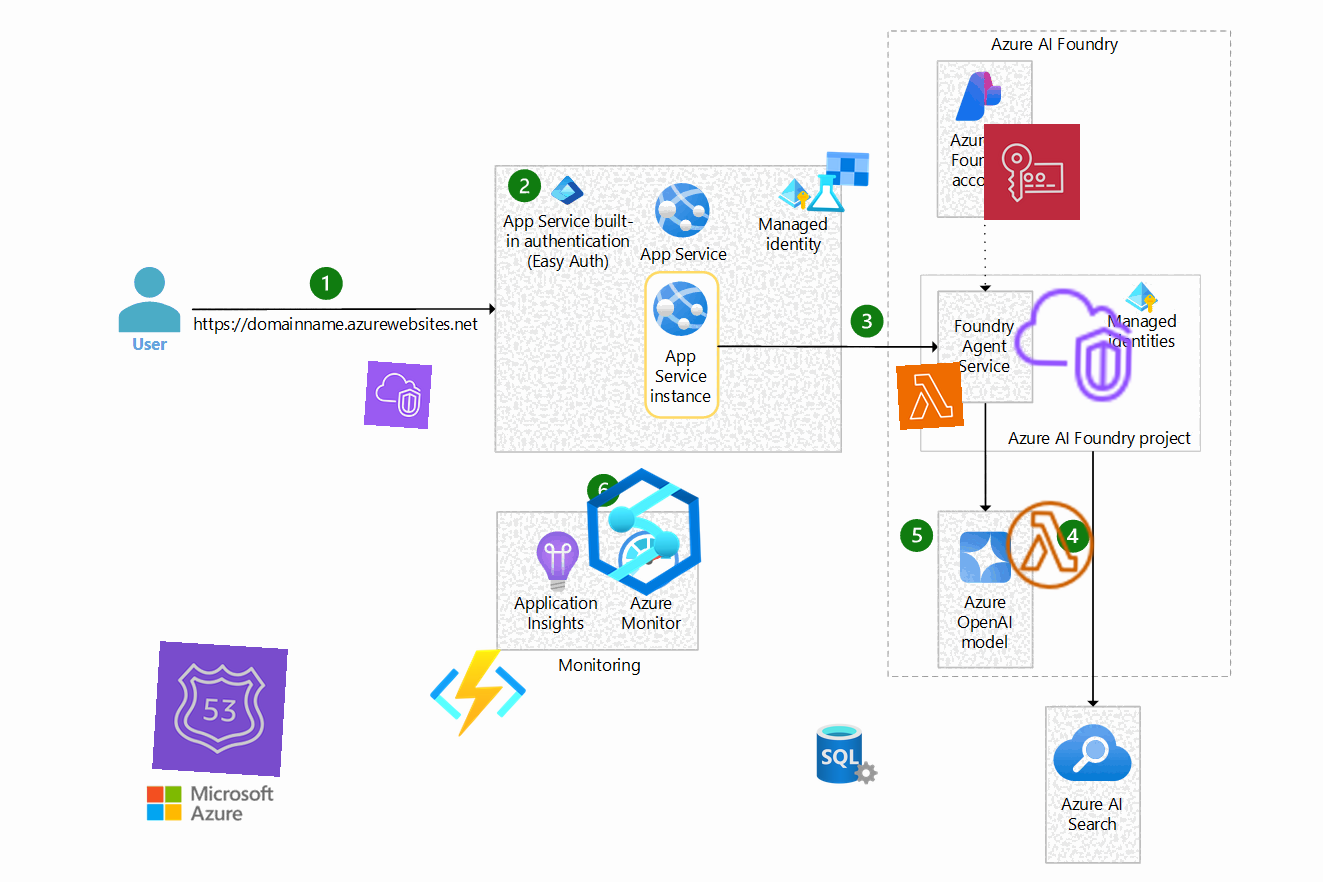aws_amazon_route_53: (152, 641, 288, 777)
aws_amazon_virtual_private_cloud: (363, 360, 433, 430)
aws_key_management_service: (983, 123, 1081, 221)
aws_lambda: (896, 362, 964, 430)
aws_lambda_lambda_function: (1000, 495, 1100, 595)
aws_vpc_virtual_private_cloud_vpc: (1007, 279, 1139, 411)
azure_function_apps: (427, 642, 529, 744)
azure_machine_learning_studio_workspaces: (804, 148, 872, 216)
azure_sql_server: (814, 721, 880, 787)
azure_synapse_analytics: (577, 465, 711, 599)
